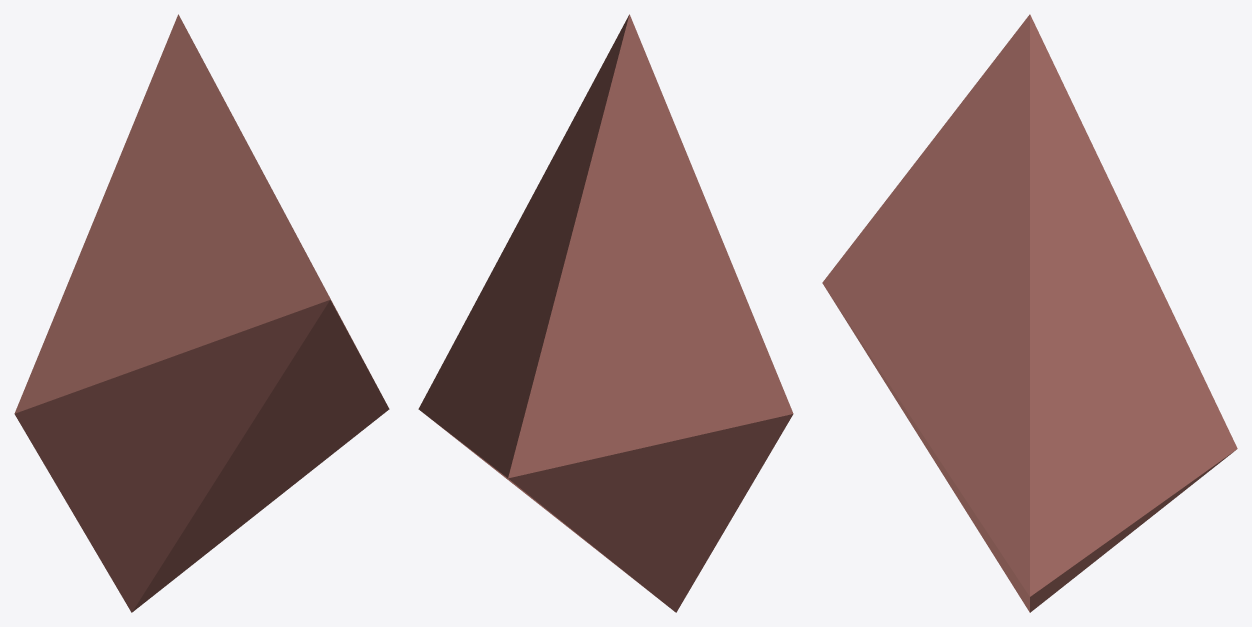
3 views of the same model, side by side, from view 1: azimuth 30°, elevation 25°; view 2: azimuth 150°, elevation 25°; view 3: azimuth 270°, elevation 25° (orthographic). The views are drawn at different scales.
Visible parts, largest first — view 1: P_005; view 2: P_005; view 3: P_005.
Part boxes in pixels (x1,y1,x2,y2): P_005: (14, 14, 389, 612); P_005: (418, 14, 793, 612); P_005: (822, 14, 1237, 612).
Bounding box in the file's own units: 205 × 307 × 186.
